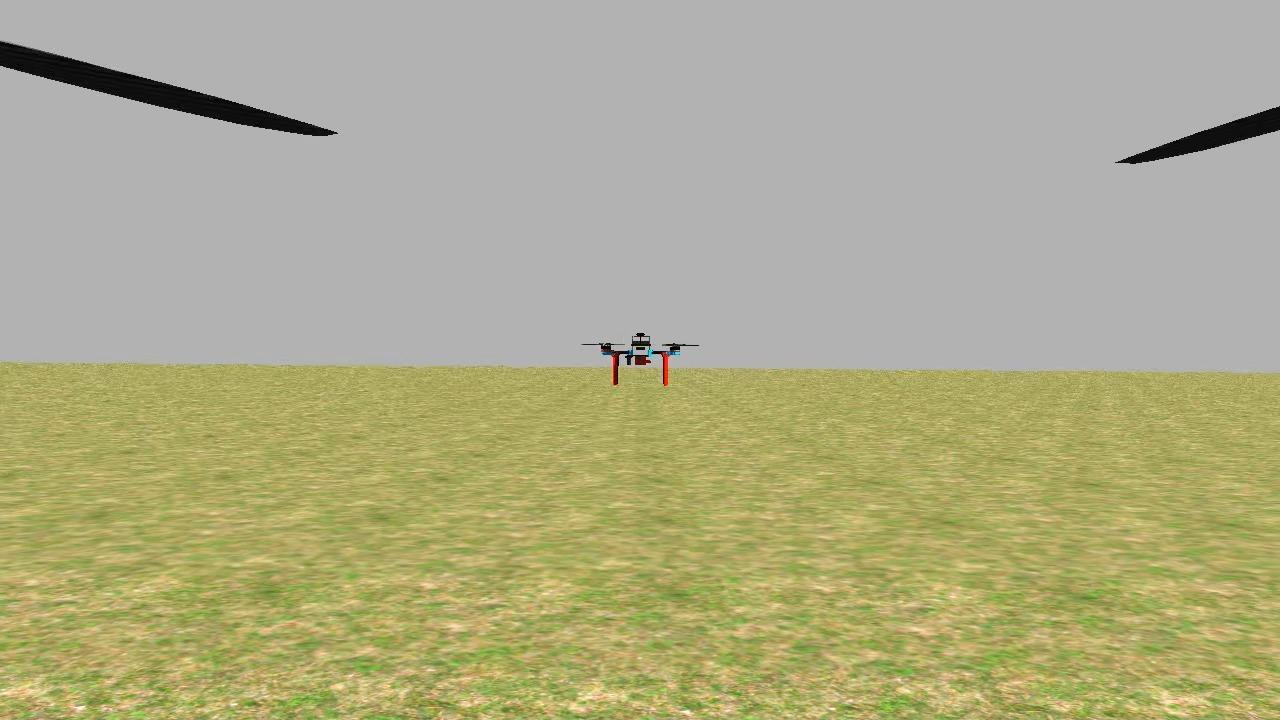UAV: (592, 328, 684, 398)
